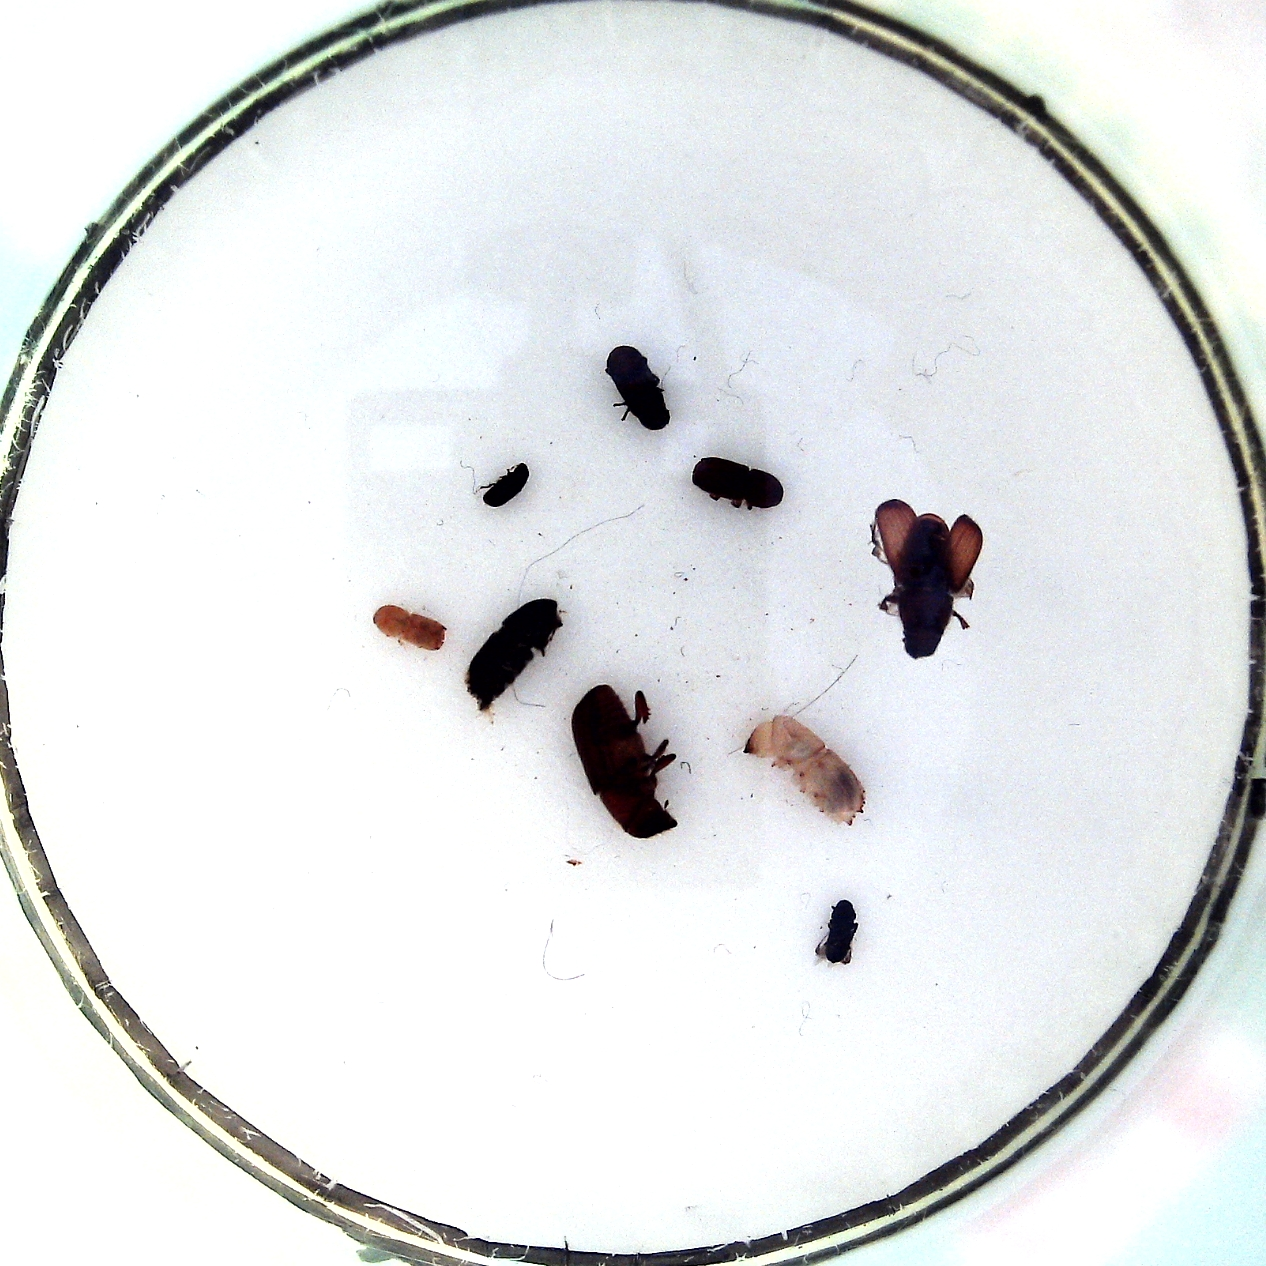Boerner: (734, 710, 880, 830)
Leconte: (861, 493, 988, 667), (567, 678, 685, 846), (456, 592, 567, 721)
Linnaeus: (685, 452, 790, 512)
acuminatus: (368, 598, 449, 659)
armandi: (601, 341, 677, 436)
coleoptera: (813, 893, 864, 972), (470, 460, 536, 509)
